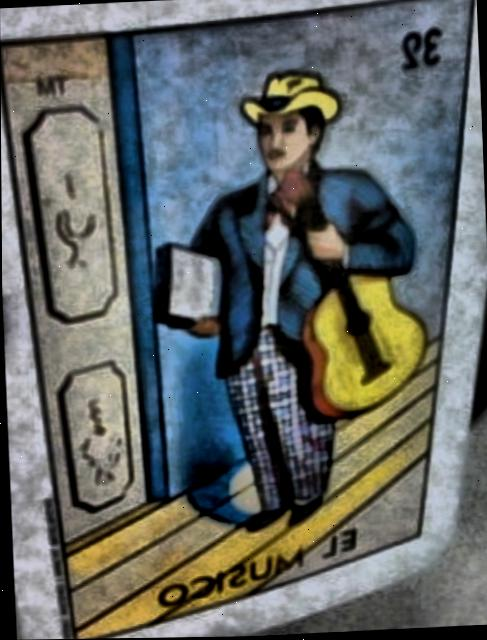El Musico: (0, 0, 472, 639)
